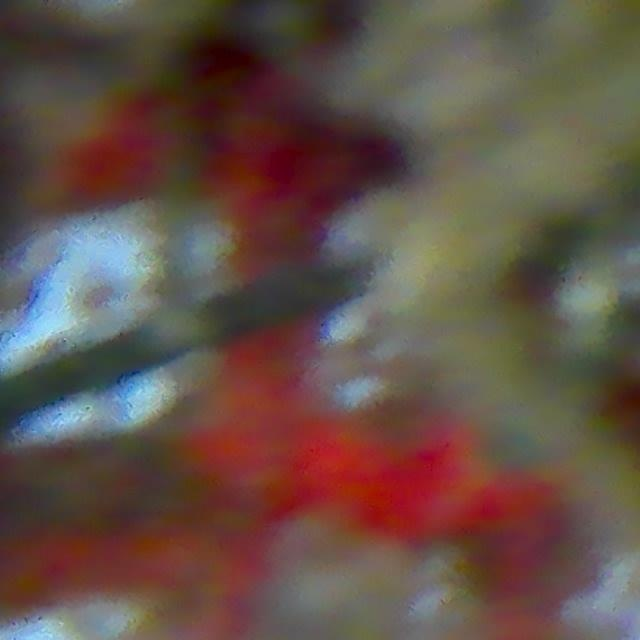SeaGrape: (245, 0, 319, 59)
